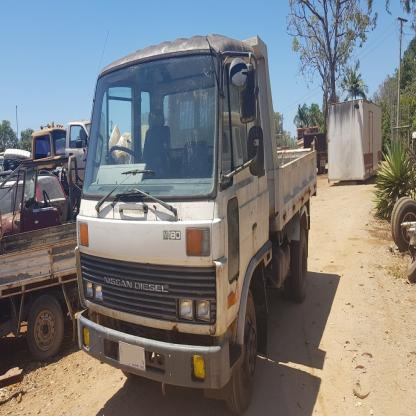dump_truck: (74, 25, 324, 416)
